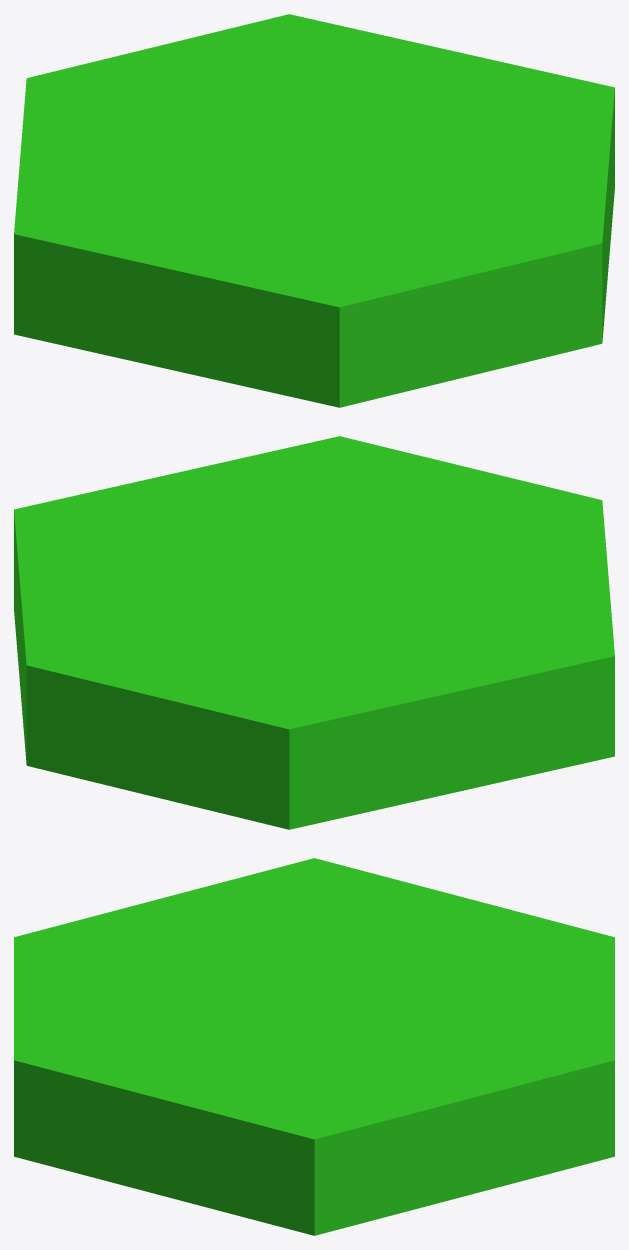
Rendered from NormalContent.fbx.
3 renders of one model, top to bottom at view 1: azimuth 30°, elevation 25°; view 2: azimuth 150°, elevation 25°; view 3: azimuth 270°, elevation 25°, orthographic. The views are drawn at different scales.
Visible parts, largest first — view 1: Model; view 2: Model; view 3: Model.
Boxes of the visible parts, x1=… form: Model: x1=14, y1=14, x2=614, y2=407; Model: x1=14, y1=436, x2=614, y2=829; Model: x1=14, y1=858, x2=614, y2=1235.
Size of what is drawn, in the model's own units: 1.93 by 0.308 by 1.74.
